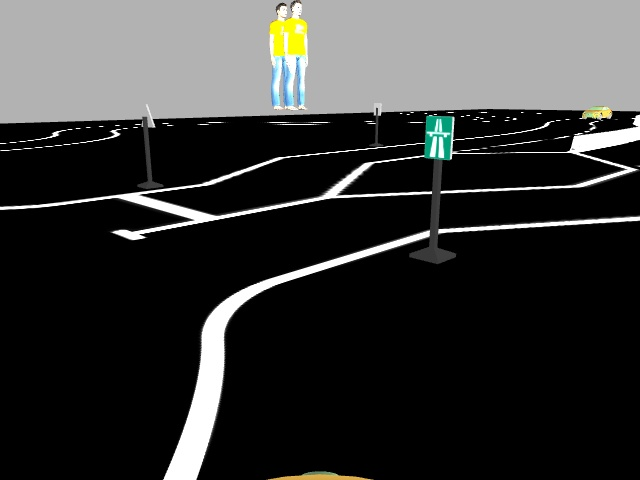HighwayEntrance: (421, 113, 454, 161)
